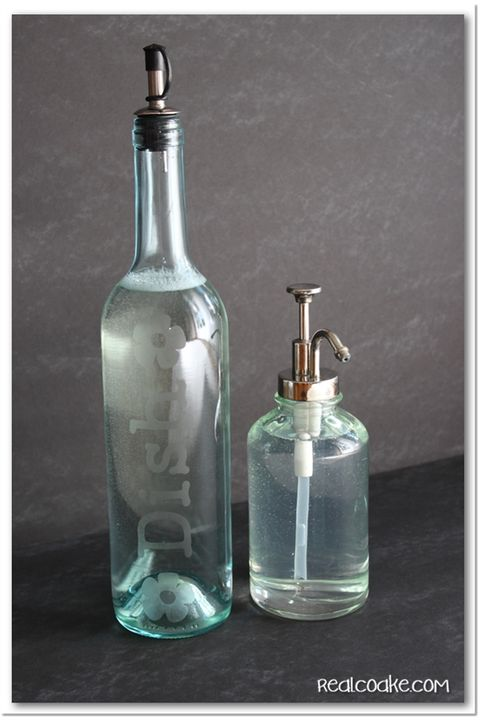glass_bottle: (97, 38, 241, 648), (243, 277, 376, 620)
